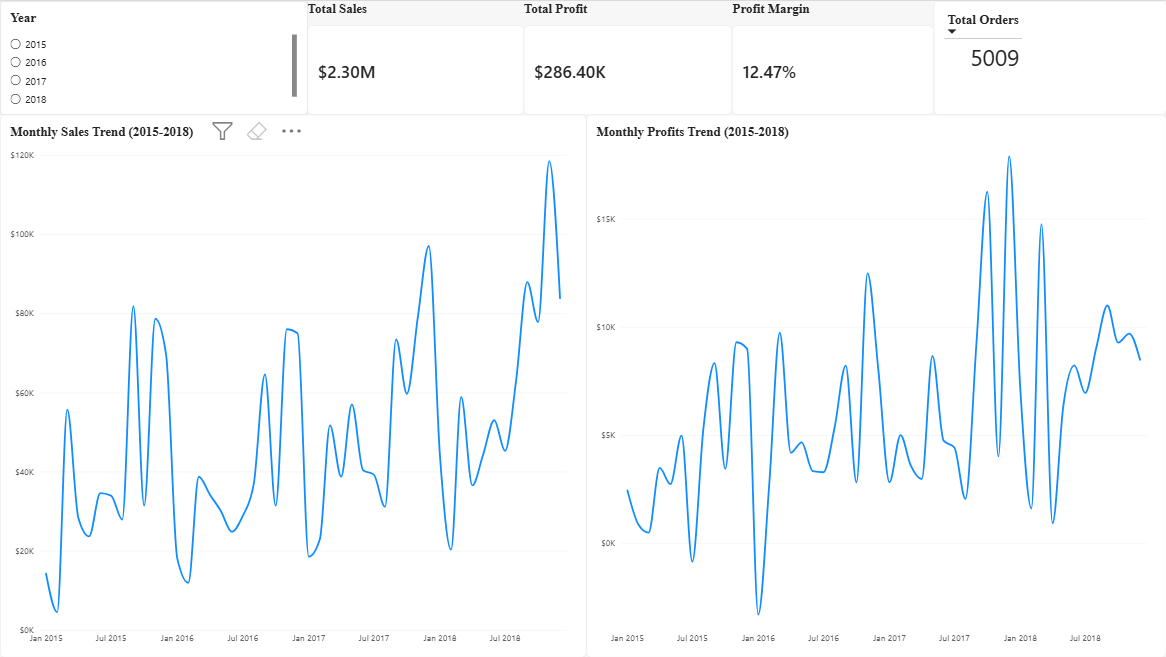

What the dashboard file says about the page in this screenshot:
{"tool":"powerbi","page":{"name":"Executive Overview","canvas":[1920,1080],"ordinal":0},"visuals":[{"type":"cardVisual","title":"Total Sales","fields":{"Data":["Orders.Total Sales"]},"box":[506.3,0,356.1,187.3],"z":0},{"type":"cardVisual","title":"Total Profit","fields":{"Data":["Orders.Total Profit"]},"box":[862.4,0,343.7,187.3],"z":2},{"type":"cardVisual","title":"Profit Margin","fields":{"Data":["Orders.Profit Margin"]},"box":[1206.2,0,331.4,187.3],"z":3},{"type":"tableEx","fields":{"Values":["Orders.Total Orders"]},"box":[1537.6,0,382.8,187.3],"z":5},{"type":"lineChart","title":"Monthly Sales Trend (2015-2018)","fields":{"Category":["Date.Month Start"],"Y":["Orders.Total Sales"]},"box":[0,187.3,965.4,893.3],"z":6},{"type":"lineChart","title":"Monthly Profits Trend (2015-2018)","fields":{"Category":["Date.Month Start"],"Y":["Orders.Total Profit"]},"box":[965.4,187.3,955.1,893.3],"z":7},{"type":"listSlicer","fields":{"Values":["Date.Year"]},"box":[0,0,506.3,187.3],"z":9}]}

Visuals, with their boxes in screenshot pixels (x1, y1, x2, y2), scaled from the page's 1920x1080 canvas onto the 1166x657 screenshot:
"Total Sales" cardVisual: x1=307 y1=0 x2=524 y2=114
"Total Profit" cardVisual: x1=524 y1=0 x2=732 y2=114
"Profit Margin" cardVisual: x1=733 y1=0 x2=934 y2=114
tableEx - Orders.Total Orders: x1=934 y1=0 x2=1165 y2=114
"Monthly Sales Trend (2015-2018)" lineChart: x1=0 y1=114 x2=586 y2=656
"Monthly Profits Trend (2015-2018)" lineChart: x1=586 y1=114 x2=1165 y2=656
listSlicer - Date.Year: x1=0 y1=0 x2=307 y2=114
